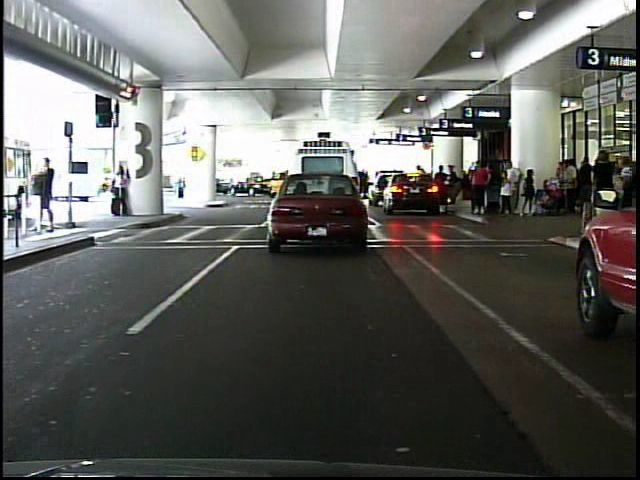person: (584, 147, 621, 234), (34, 151, 60, 236), (110, 160, 133, 218), (166, 159, 193, 203), (471, 161, 490, 218)
